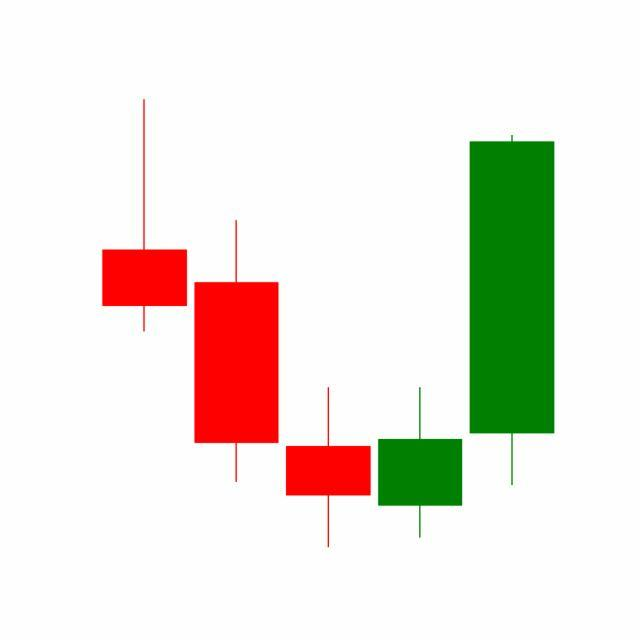Three Outside Up-Down: (280, 130, 555, 548)
